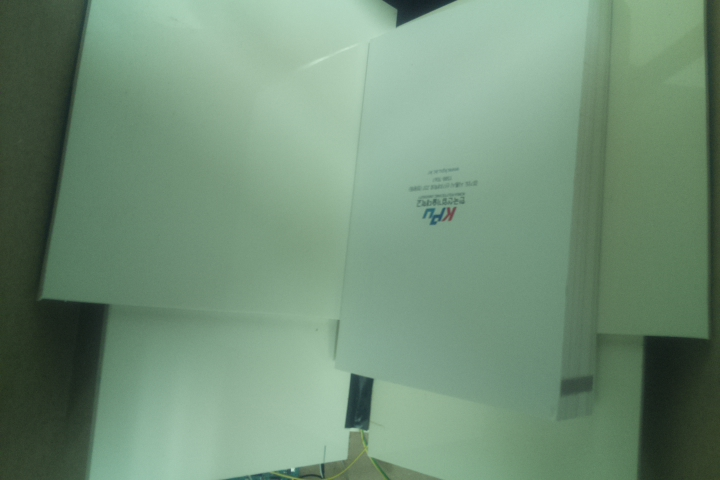book: (331, 1, 621, 424)
